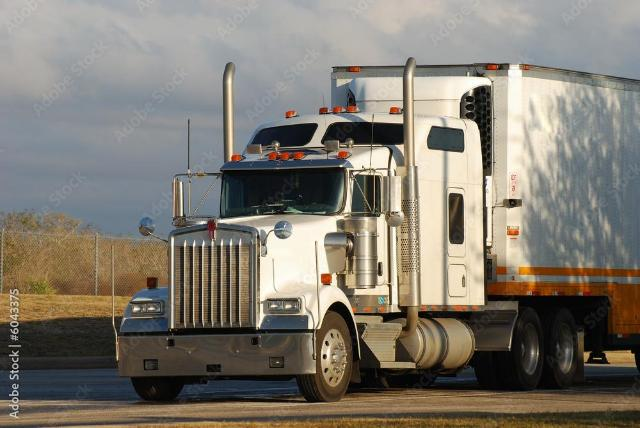truck: (75, 51, 640, 397)
